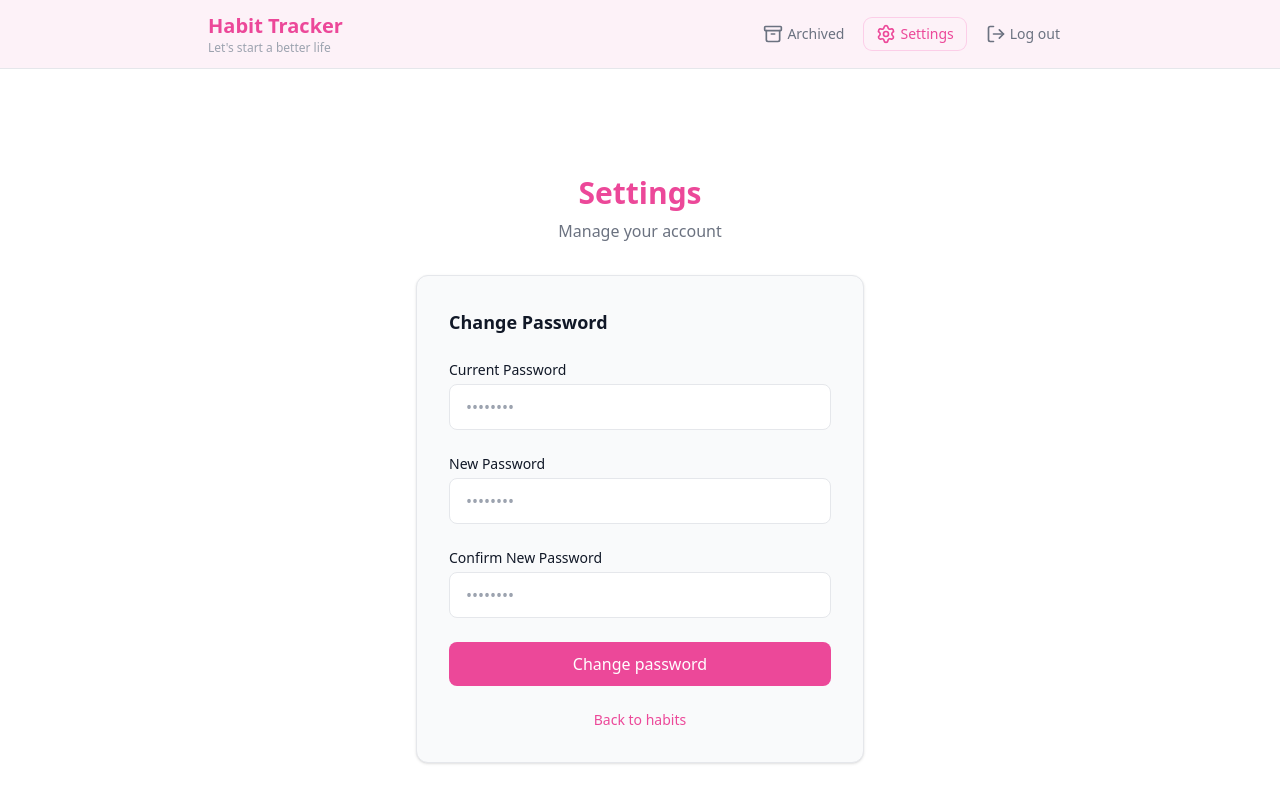
Scenario: SettingsPage › shows client-side mismatch error when confirmation does not match
Type "OldPass1" into the password field labelled "Current Password" at point(640, 407), box [449,384,831,430]
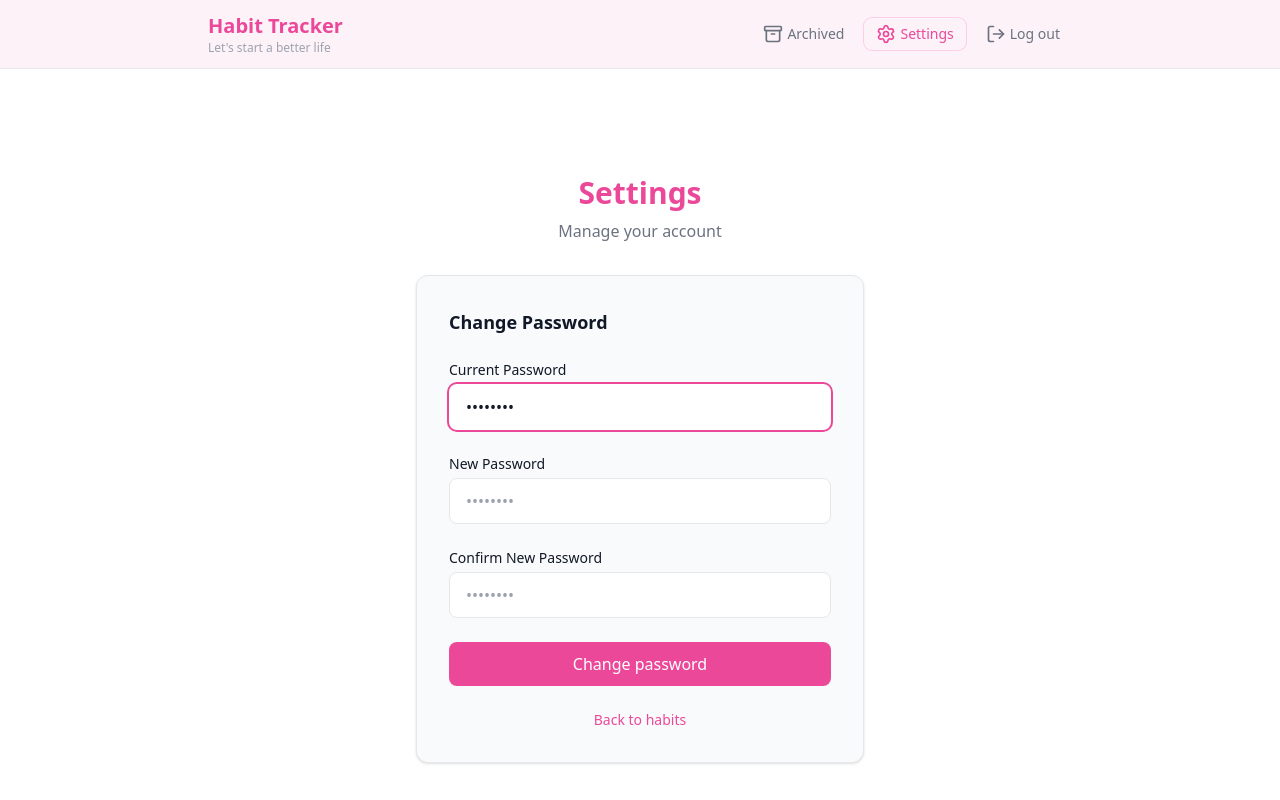
Type "NewSecure1" into the password field labelled "New Password" at point(640, 501), box [449,478,831,524]
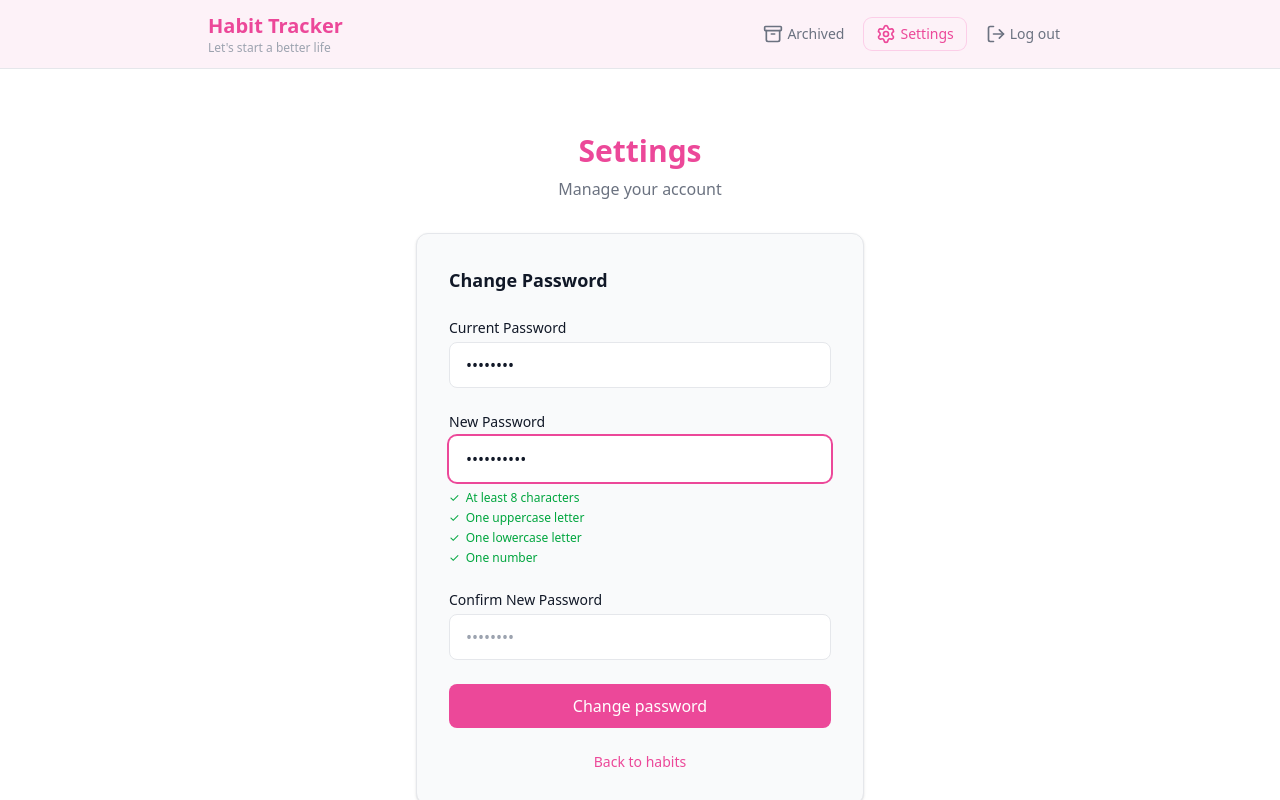
Type "Different1" into the password field labelled "Confirm New Password" at point(640, 637), box [449,614,831,660]
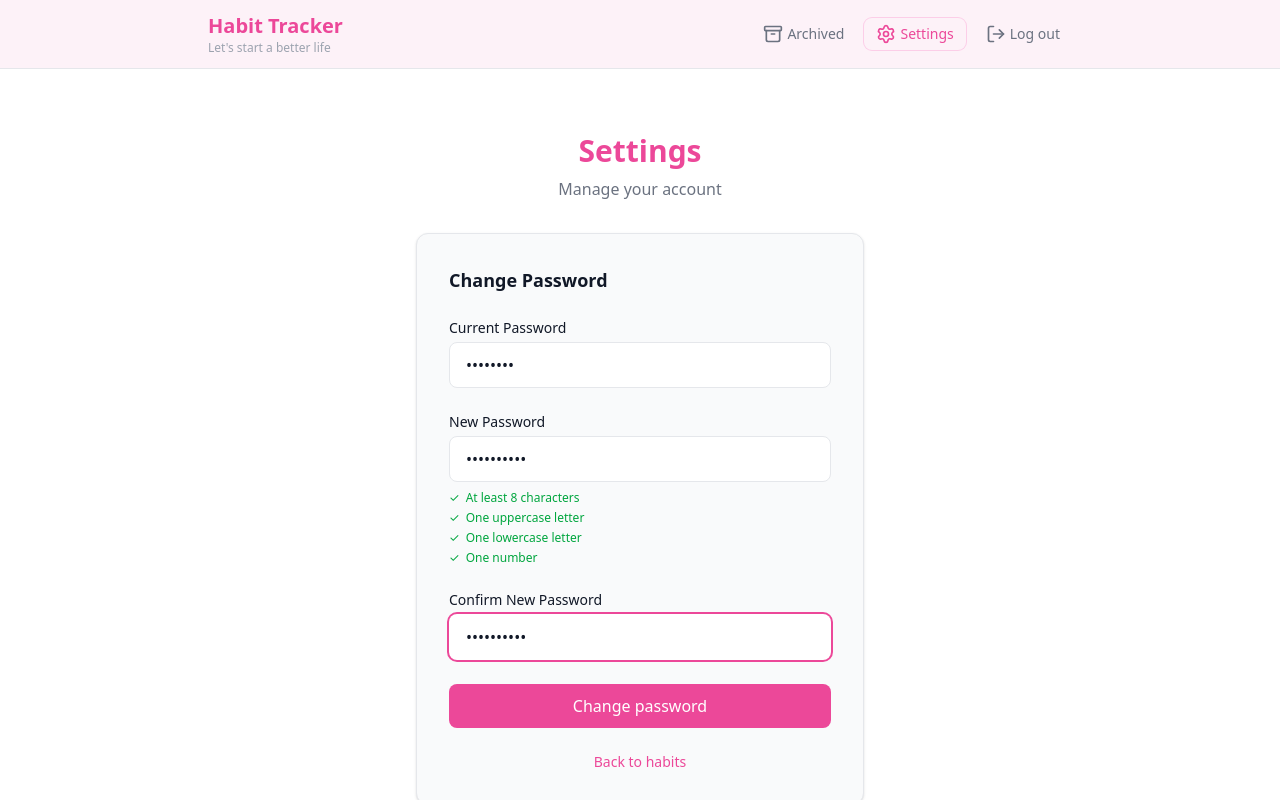
Click the button "Change password" at point(640, 706), box [449,684,831,728]
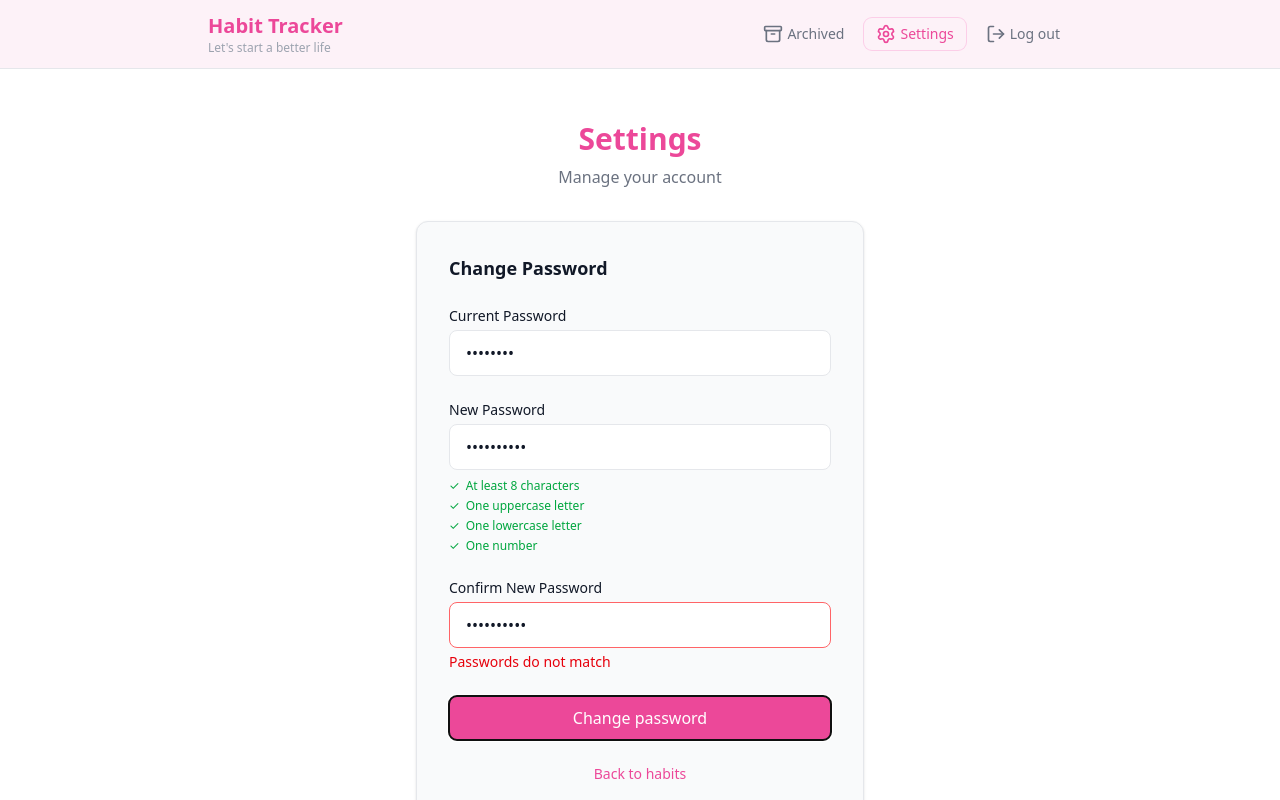
Now the text "Passwords do not match" is shown, box [449,652,611,671]
